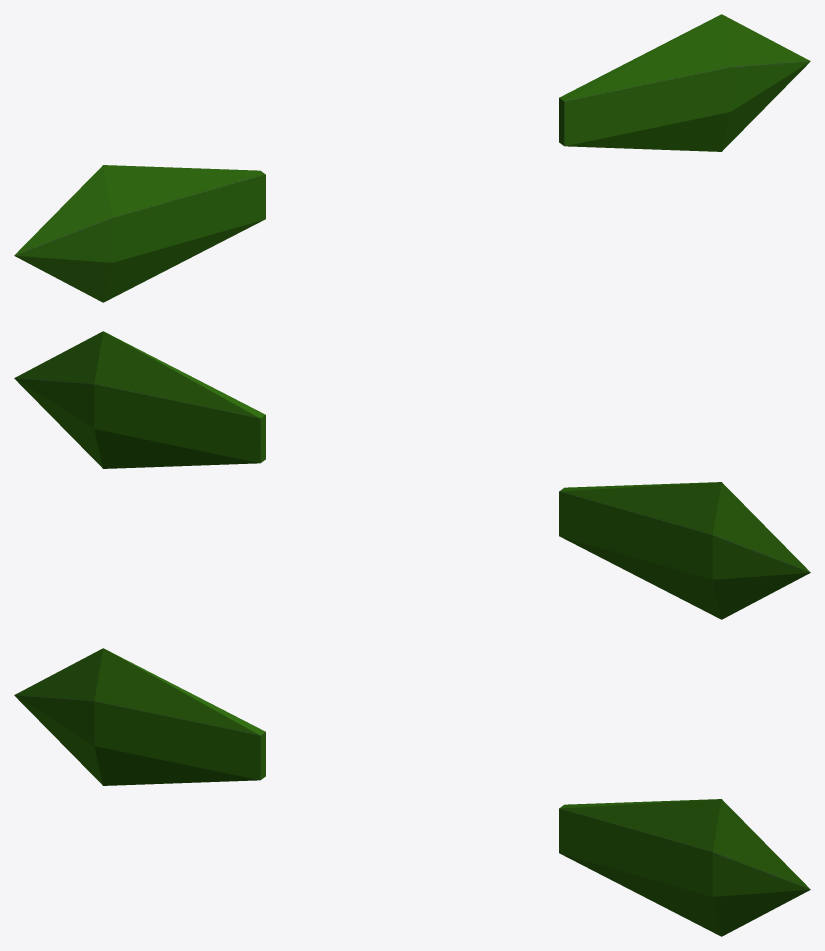
Rendered from RobotBufferSideCrystal.fbx.
The picture shows the model from 3 angles, top to bottom: view 1: azimuth 30°, elevation 25°; view 2: azimuth 150°, elevation 25°; view 3: azimuth 330°, elevation 25°; orthographic projection.
Parts seen in each view (by area): view 1: Plane, Plane.002; view 2: Plane, Plane.002; view 3: Plane, Plane.002.
Boxes of the visible parts, x1,y1,x2,y2 form: Plane: (559,14,810,151); Plane.002: (14,165,265,302); Plane: (14,331,265,468); Plane.002: (559,482,810,619); Plane: (559,799,810,936); Plane.002: (14,648,265,785).
Bounding box in the file's own units: 304 × 50.31 × 11.87.
